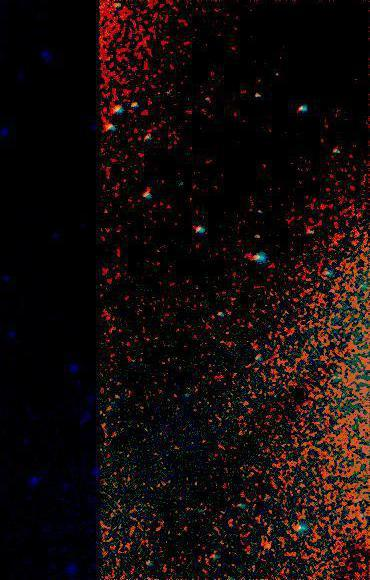star: (255, 531, 285, 561)
